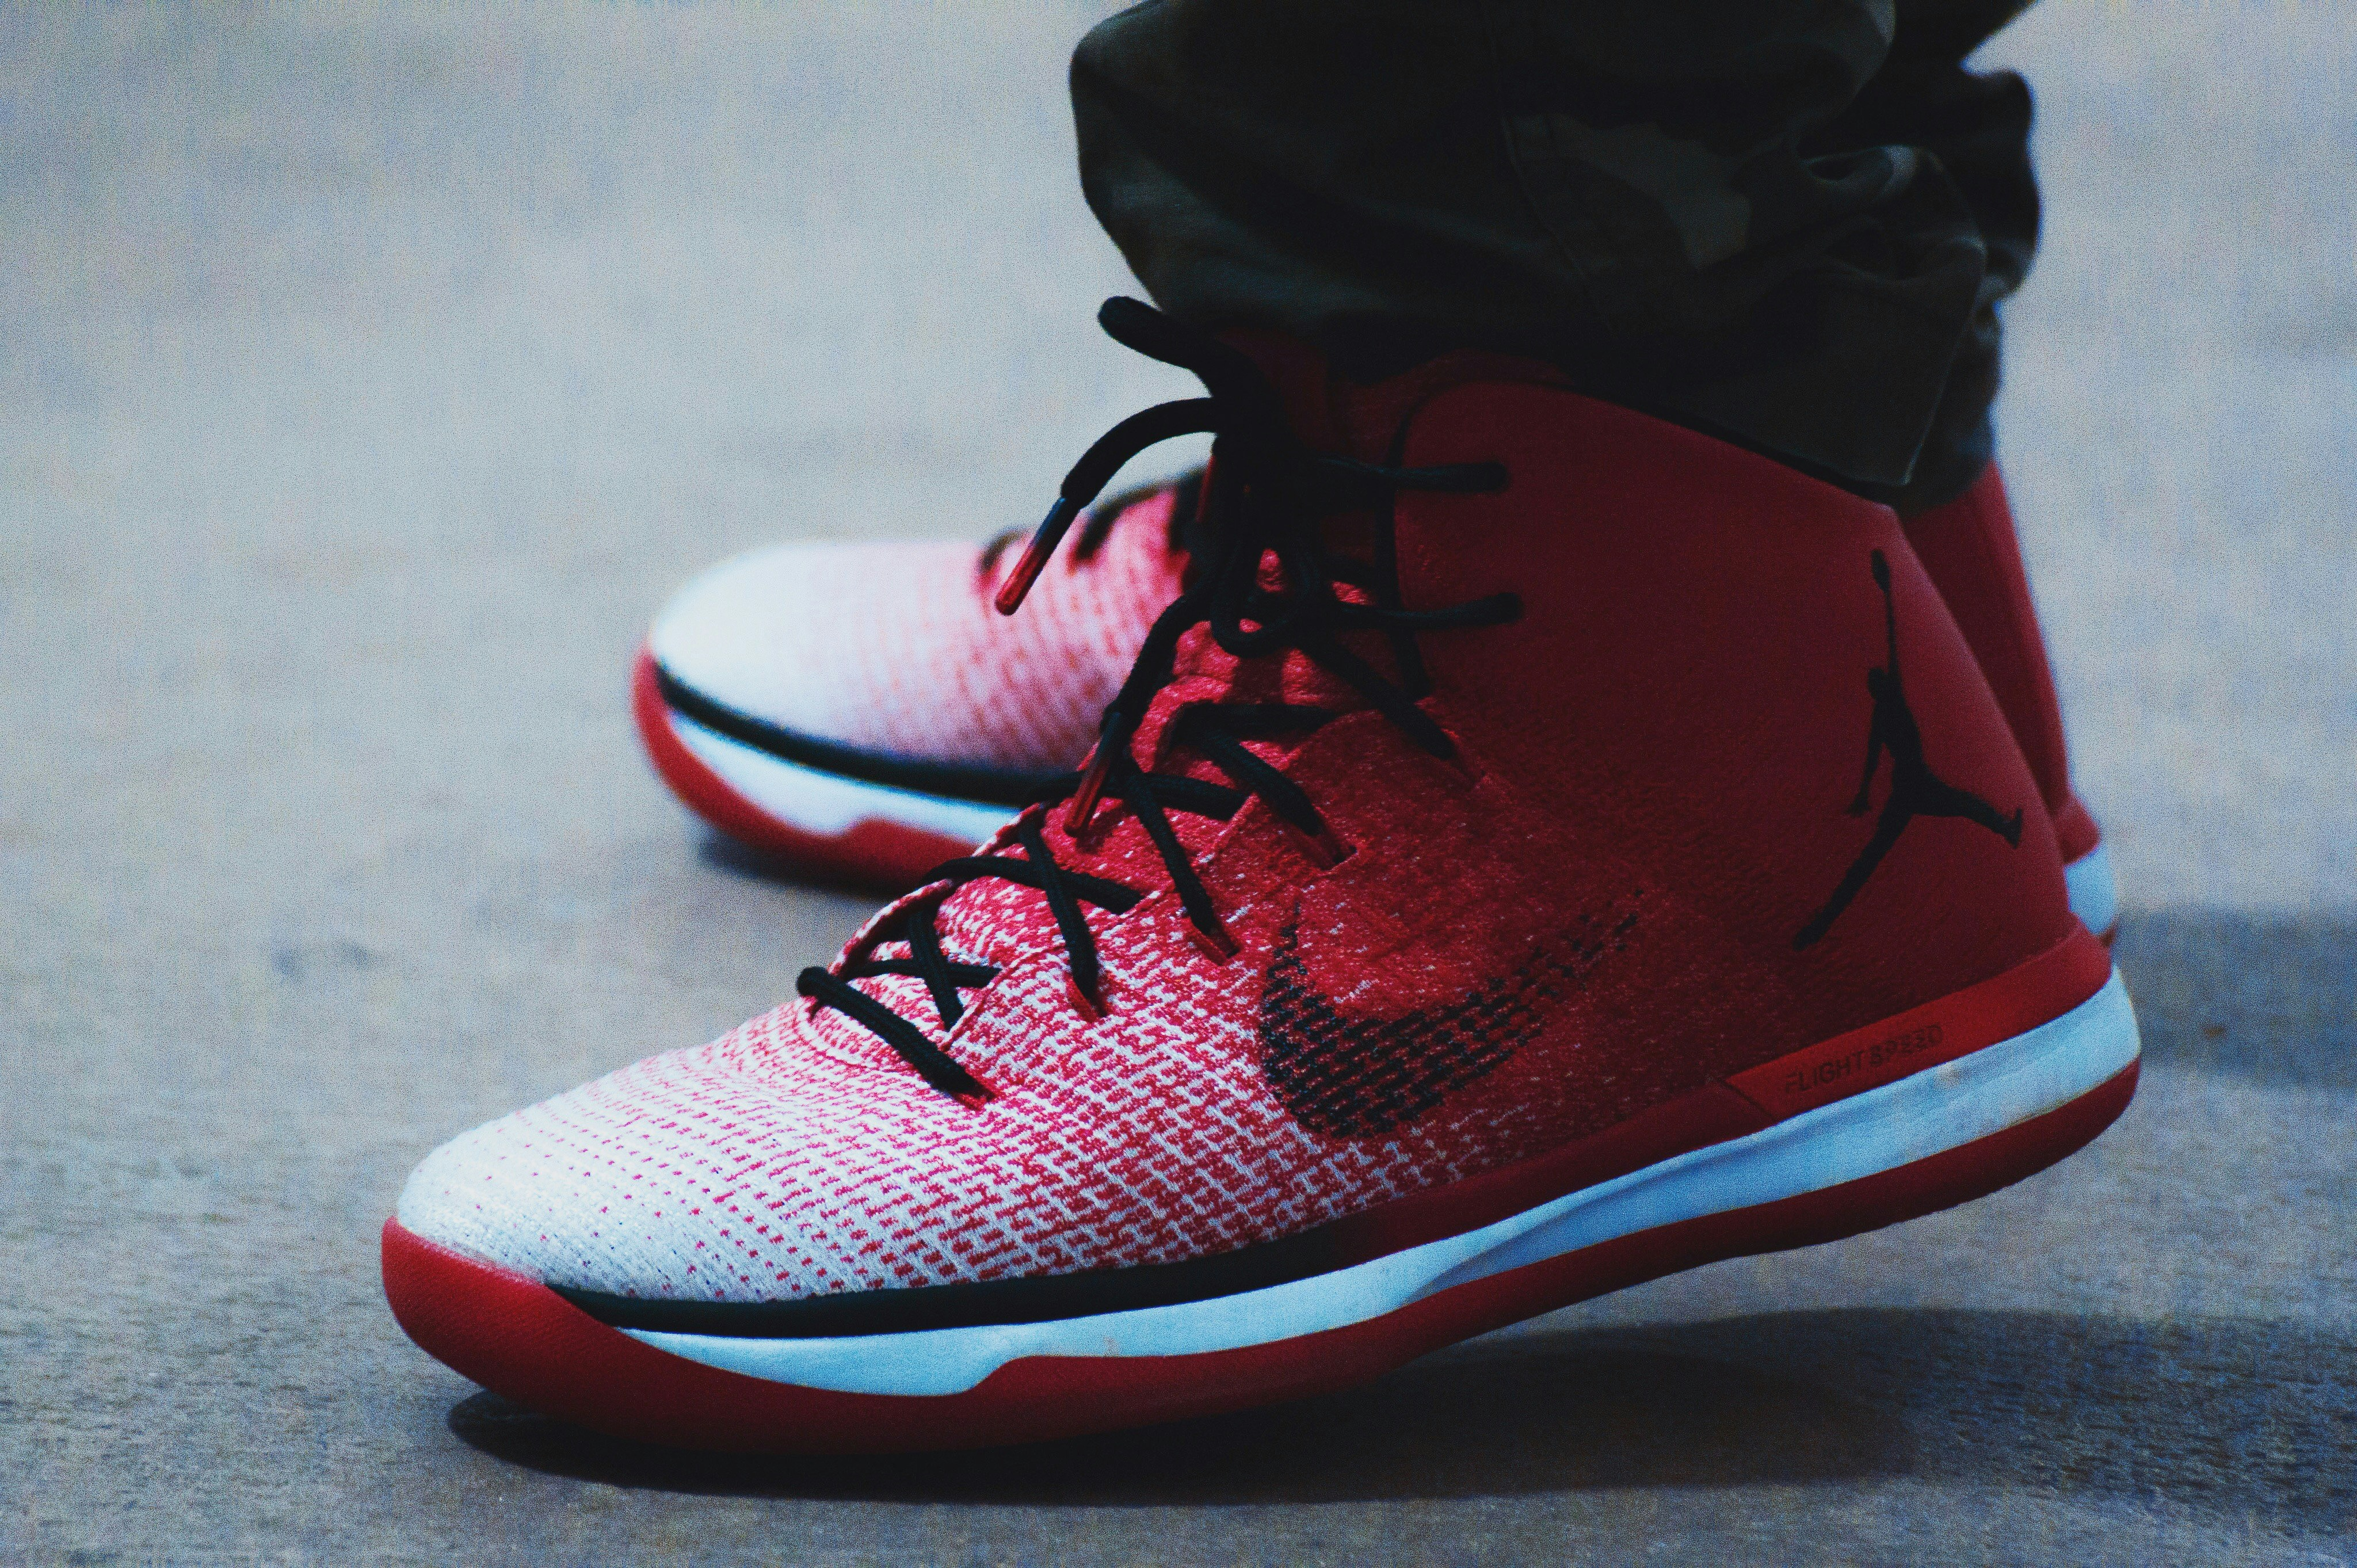Footwear: (345, 395, 2175, 1447)
